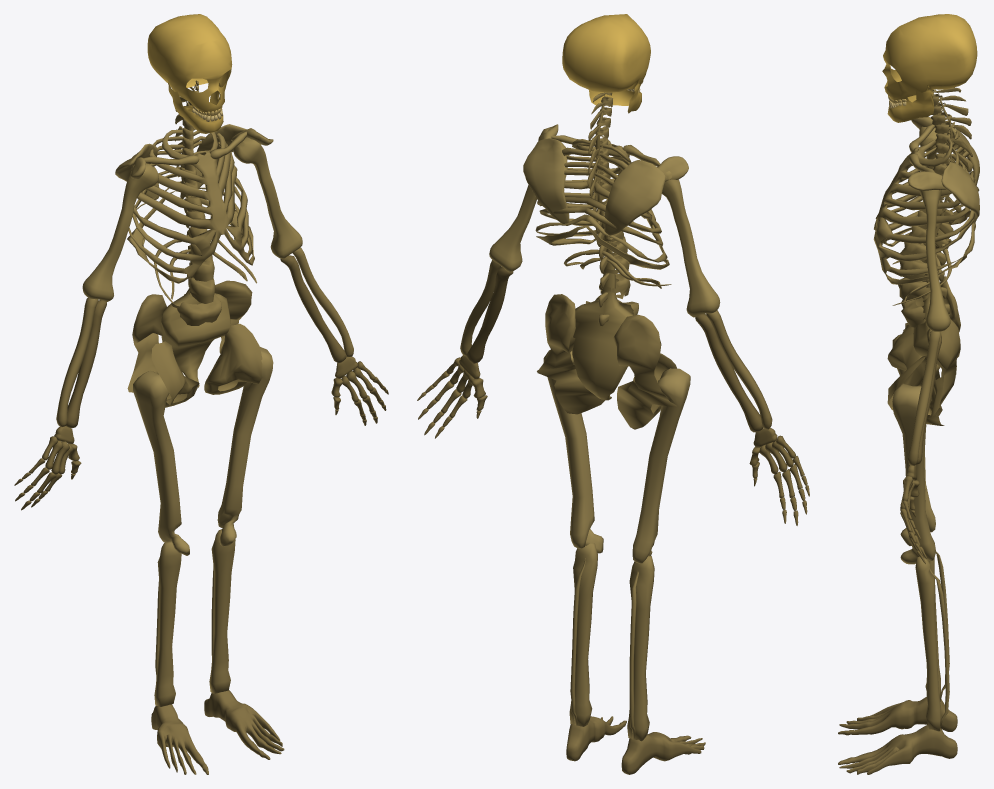
File: skeleton.obj
3 renders of one model, left to right at view 1: azimuth 30°, elevation 25°; view 2: azimuth 150°, elevation 25°; view 3: azimuth 270°, elevation 25°, orthographic. The views are drawn at different scales.
Visible parts, largest first — view 1: Rib_Cage_0, Femur_0, Ilium_0, Skull_0, Tibia_0, Humerus_0, Feet_0, Cube_0, Spine2_0, spine_0, Ulna_0, Radius_0 (+1 smaller); view 2: Ilium_0, Femur_0, Tibia_0, Clavicle_And_Shoulder_0, Rib_Cage_0, Skull_0, spine_0, Cube_0, Humerus_0, Feet_0, Spine2_0, Ulna_0 (+1 smaller); view 3: Skull_0, Rib_Cage_0, Feet_0, Spine2_0, Ilium_0, Tibia_0, Femur_0, Clavicle_And_Shoulder_0, Humerus_0, Radius_0, Cube_0, spine_0 (+1 smaller).
Boxes of the visible parts, box(x1,y1,x2,y2) form: Rib_Cage_0: box(127, 128, 256, 303); Femur_0: box(133, 347, 273, 555); Ilium_0: box(127, 280, 262, 407); Skull_0: box(147, 14, 232, 133); Tibia_0: box(154, 529, 235, 706); Humerus_0: box(82, 137, 302, 302); Feet_0: box(151, 690, 284, 774); Cube_0: box(14, 356, 388, 510); Spine2_0: box(171, 81, 221, 325); spine_0: box(160, 80, 230, 387); Ulna_0: box(66, 255, 346, 428); Radius_0: box(56, 247, 353, 426); Ilium_0: box(537, 294, 676, 429); Femur_0: box(543, 349, 690, 563); Tibia_0: box(569, 543, 654, 741); Clavicle_And_Shoulder_0: box(523, 124, 688, 235); Rib_Cage_0: box(535, 139, 671, 288); Skull_0: box(562, 14, 650, 113); spine_0: box(572, 95, 633, 400); Cube_0: box(417, 355, 809, 525); Humerus_0: box(489, 141, 720, 317); Feet_0: box(566, 716, 705, 774); Spine2_0: box(586, 92, 638, 326); Ulna_0: box(466, 267, 762, 432); Skull_0: box(882, 14, 977, 122); Rib_Cage_0: box(873, 128, 979, 305); Feet_0: box(838, 696, 957, 774); Spine2_0: box(898, 87, 972, 327); Ilium_0: box(887, 276, 960, 425); Tibia_0: box(915, 551, 949, 731); Femur_0: box(892, 334, 935, 564); Clavicle_And_Shoulder_0: box(908, 117, 979, 223); Humerus_0: box(919, 126, 950, 331); Radius_0: box(908, 330, 940, 465); Cube_0: box(900, 323, 926, 563); spine_0: box(913, 89, 956, 374).
Bounding box in the file's own units: 5.93 × 10.79 × 1.9.
